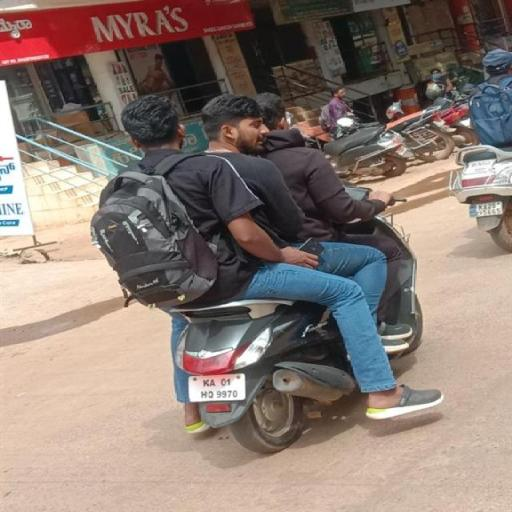tripple riding: (79, 84, 374, 306)
